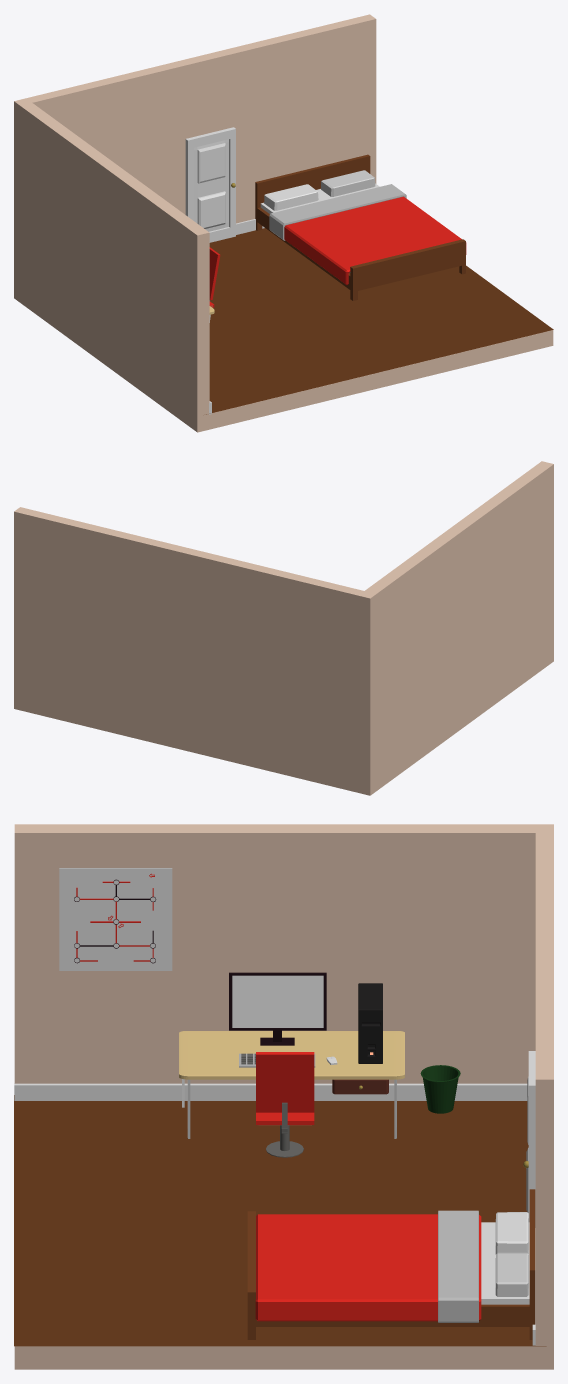
Rendered from bedroom1.fbx.
3 renders of one model, top to bottom at view 1: azimuth 30°, elevation 25°; view 2: azimuth 150°, elevation 25°; view 3: azimuth 270°, elevation 25°, orthographic. The views are drawn at different scales.
Parts seen in each view (by area): view 1: Cube, Plane_001, Cube_005, Cube_003, Cube_001, Cube_006, Cube_007, Cube_008; view 2: Cube; view 3: Cube, Plane_001, Cube_005, Cube_1, Cube_010, Plane_013, Cube_006, Cube_003, Cube_031, Cube_2_2, Cube_032, Cube_017 (+8 smaller).
Part boxes in pixels (bbox=[...]): Cube: bbox=[14, 14, 553, 432]; Plane_001: bbox=[206, 228, 553, 414]; Cube_005: bbox=[284, 196, 466, 284]; Cube_003: bbox=[255, 154, 465, 300]; Cube_001: bbox=[185, 127, 235, 242]; Cube_006: bbox=[269, 184, 406, 240]; Cube_007: bbox=[321, 170, 375, 196]; Cube_008: bbox=[264, 184, 318, 210]; Cube: bbox=[14, 461, 553, 795]; Cube: bbox=[14, 824, 553, 1369]; Plane_001: bbox=[14, 1095, 546, 1346]; Cube_005: bbox=[255, 1214, 481, 1321]; Cube_1: bbox=[59, 868, 172, 970]; Cube_010: bbox=[179, 1031, 404, 1079]; Plane_013: bbox=[232, 975, 323, 1027]; Cube_006: bbox=[438, 1210, 478, 1322]; Cube_003: bbox=[247, 1189, 535, 1339]; Cube_031: bbox=[14, 1083, 246, 1100]; Cube_2_2: bbox=[256, 1052, 314, 1112]; Cube_032: bbox=[245, 1083, 527, 1100]; Cube_017: bbox=[358, 983, 382, 1063].
Size of the model in its own units: 400 by 235 by 358.
